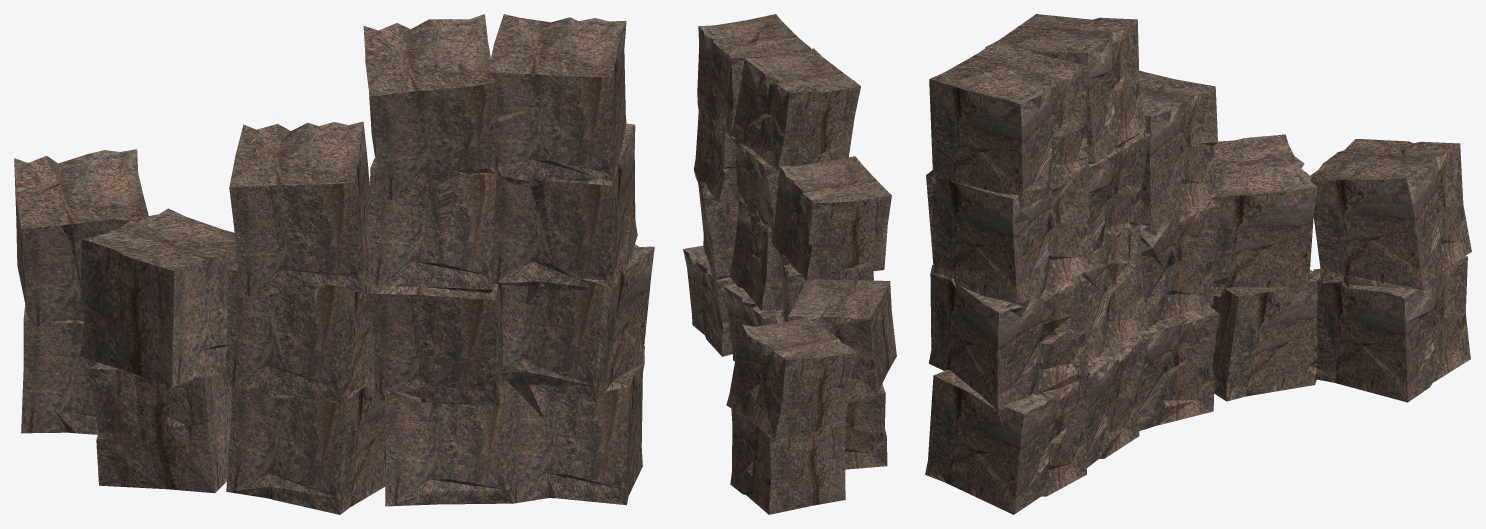
File: stone_wall.glb
The picture shows the model from 3 angles, left to right: view 1: azimuth 30°, elevation 25°; view 2: azimuth 150°, elevation 25°; view 3: azimuth 270°, elevation 25°; orthographic projection. The views are drawn at different scales.
Parts seen in each view (by area): view 1: Cube.001; view 2: Cube.001; view 3: Cube.001.
Boxes of the visible parts, <box> form: Cube.001: <box>14,14,654,514</box>; Cube.001: <box>683,14,896,514</box>; Cube.001: <box>925,14,1471,514</box>.
Size of the model in its own units: 3.43 by 3.49 by 4.07.
1 material, 1 textured.
